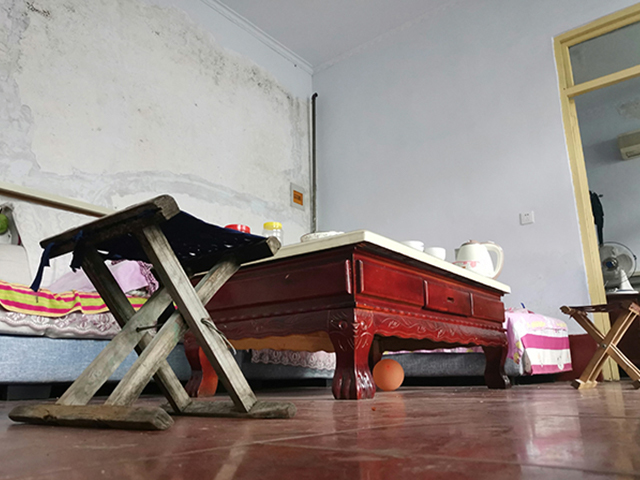sofa: (1, 199, 192, 403)
stool: (6, 193, 294, 434), (556, 300, 640, 390)
table: (167, 227, 515, 402)
